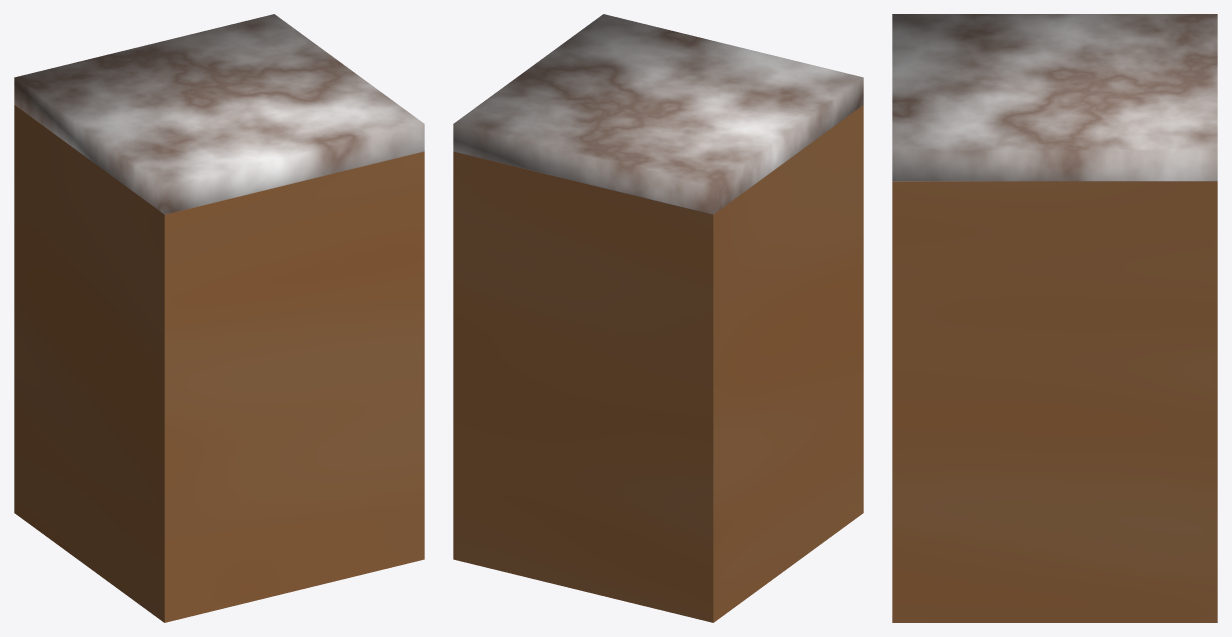
File: CounterCabinet_solo-zero.glb
3 views of the same model, side by side, from view 1: azimuth 30°, elevation 25°; view 2: azimuth 150°, elevation 25°; view 3: azimuth 270°, elevation 25° (orthographic). The views are drawn at different scales.
Visible parts, largest first — view 1: mesh; view 2: mesh; view 3: mesh.
Part boxes in pixels (box(x1,y1,x2,y2)): mesh: box(14, 14, 424, 622); mesh: box(453, 14, 863, 622); mesh: box(892, 14, 1217, 622).
Size of the model in its own units: 2 by 3.2 by 2.
1 material, 1 textured.
